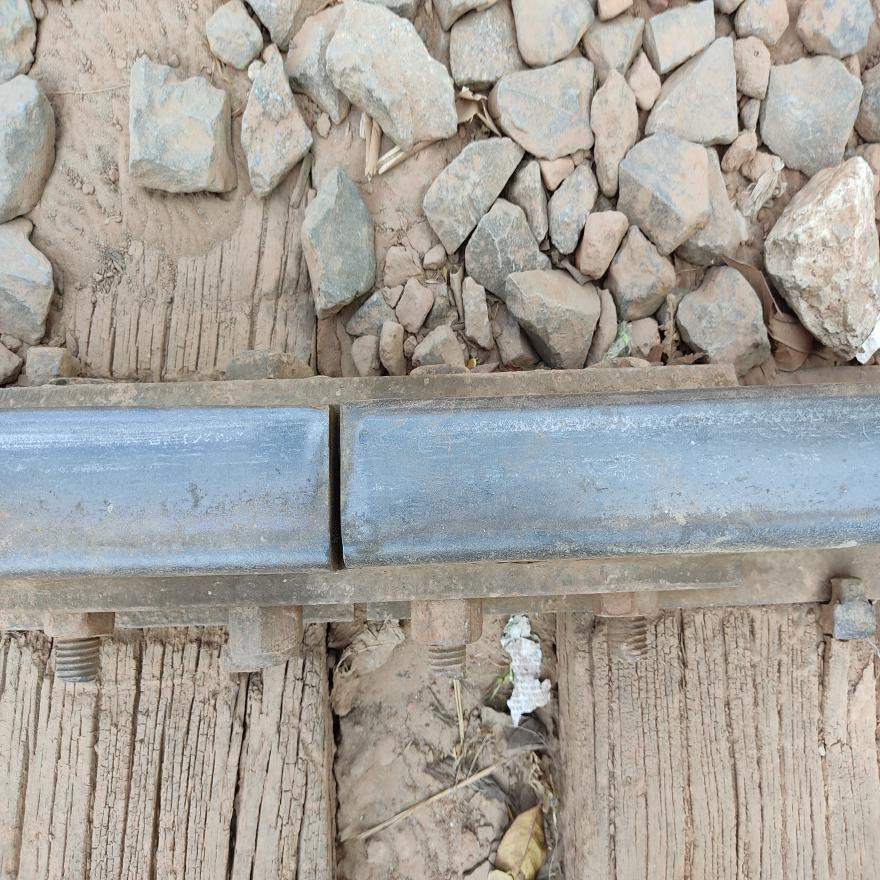railway-gap: (246, 362, 422, 615)
